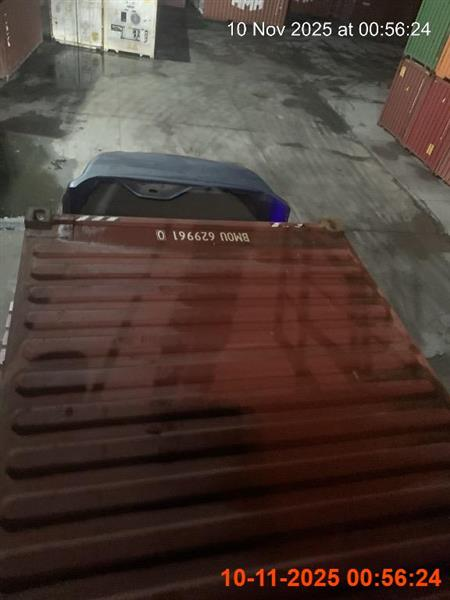broken: (0, 157, 449, 590), (57, 149, 292, 222)
